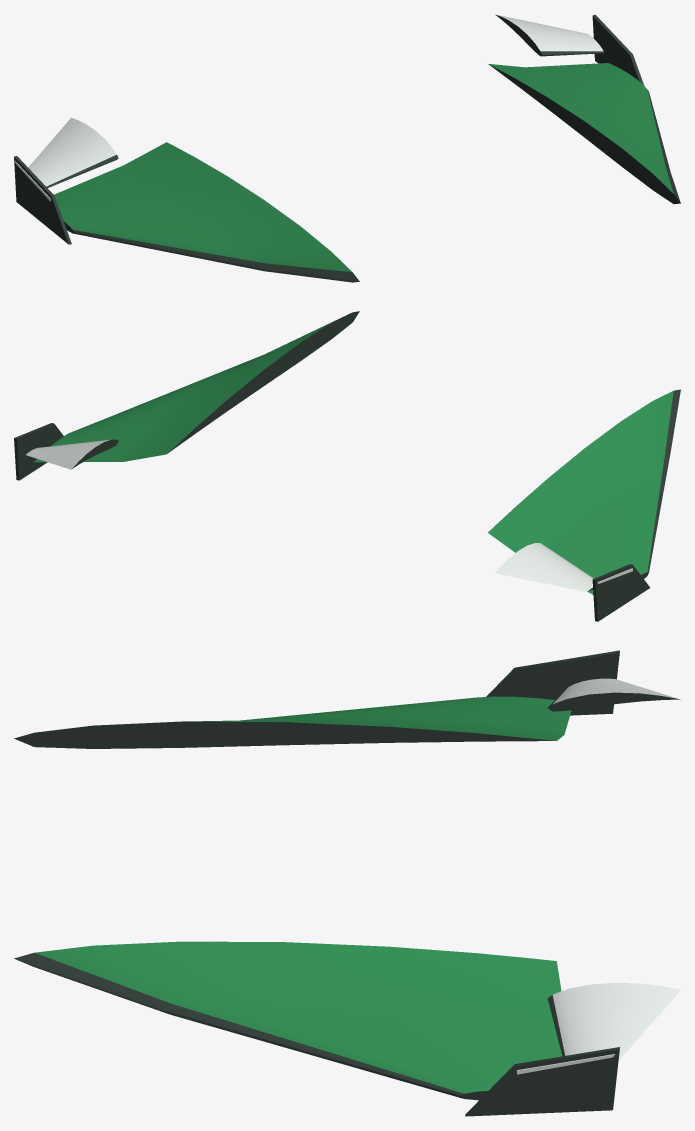
Rendered from wraith_wing_ep.fbx.
The picture shows the model from 3 angles, top to bottom: view 1: azimuth 30°, elevation 25°; view 2: azimuth 150°, elevation 25°; view 3: azimuth 270°, elevation 25°; orthographic projection. The views are drawn at different scales.
Parts seen in each view (by area): view 1: Wing_Slotted_L, Wing_Slotted_R; view 2: Wing_Slotted_L, Wing_Slotted_R; view 3: Wing_Slotted_R, Wing_Slotted_L.
Boxes of the visible parts, <box> form: Wing_Slotted_L: <box>14,117,359,282</box>; Wing_Slotted_R: <box>488,14,680,204</box>; Wing_Slotted_L: <box>488,389,680,621</box>; Wing_Slotted_R: <box>14,311,359,480</box>; Wing_Slotted_R: <box>14,941,680,1116</box>; Wing_Slotted_L: <box>14,650,680,748</box>.
Bounding box in the file's own units: 262 × 26.17 × 185.
